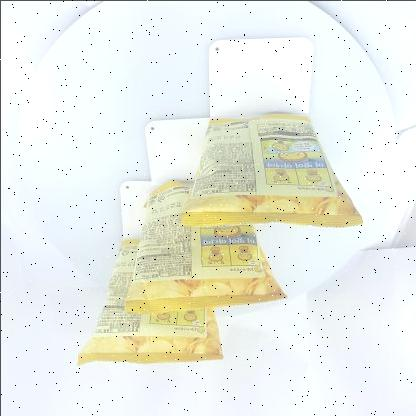Others: (68, 100, 372, 372)
